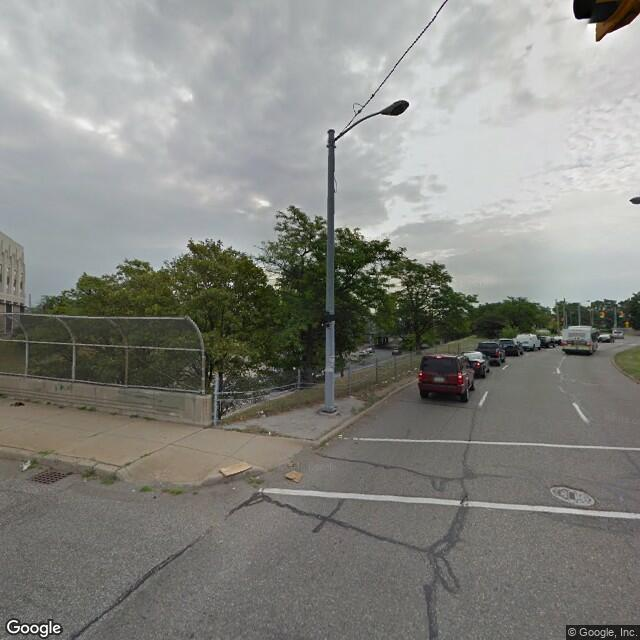litter: (218, 459, 253, 474), (284, 467, 304, 485), (20, 458, 32, 470), (257, 408, 269, 418), (12, 402, 27, 407), (381, 378, 392, 382), (268, 430, 274, 435), (131, 484, 135, 491)
